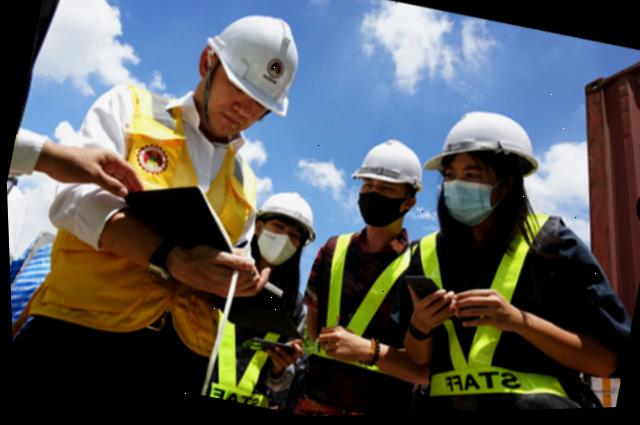helmet: (188, 0, 316, 127), (426, 100, 546, 192), (342, 129, 427, 191), (249, 183, 314, 236)
vest: (3, 72, 282, 366), (382, 185, 619, 416), (272, 216, 441, 398), (185, 294, 307, 416)
